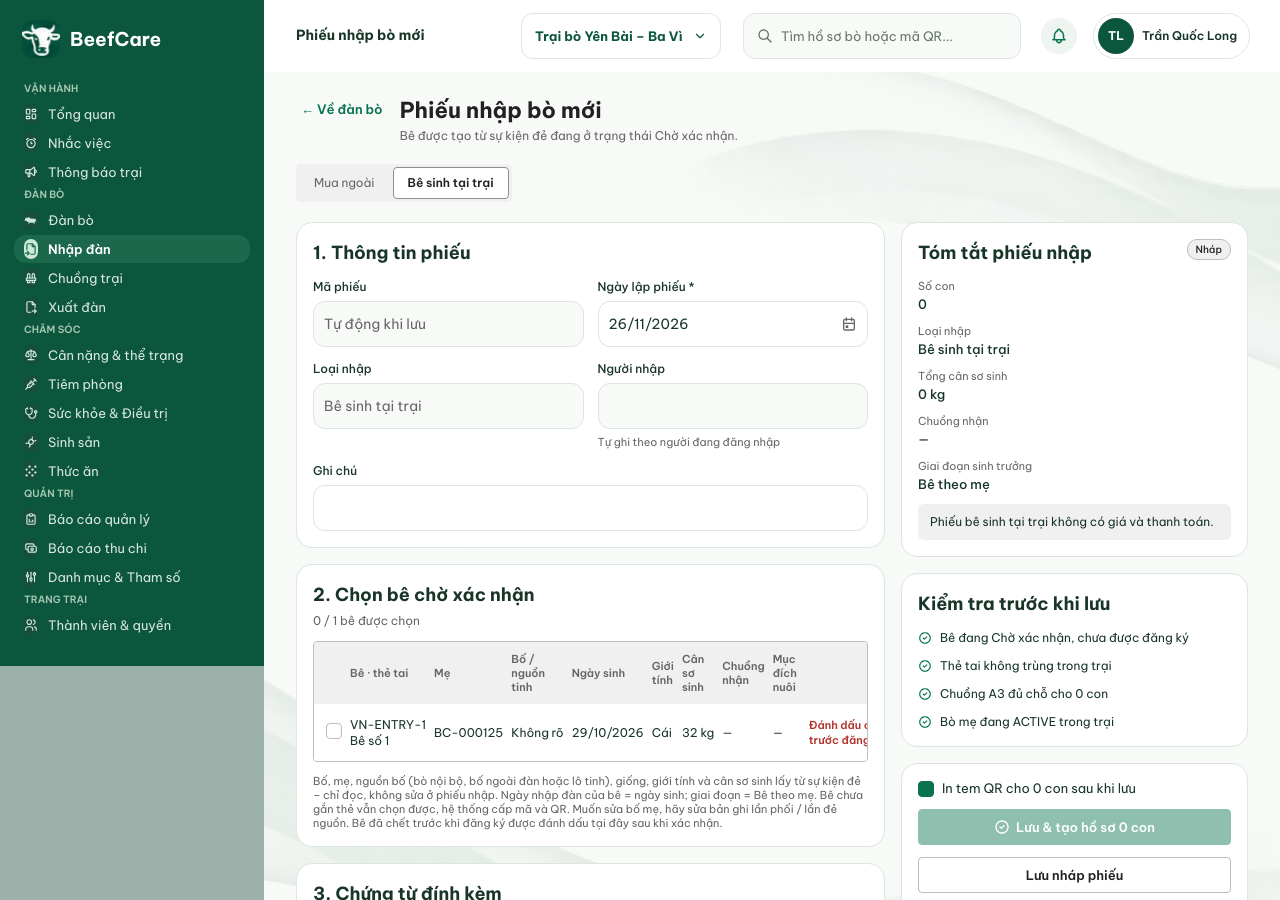
Test: farm-born entry draft in backend mode › confirms a pending calf death through the backend command without creating a voucher
Expected: the field showing "Bê sinh tại trại" is shown, [313,383,584,429]
Click the button "Đánh dấu chết trước đăng ký".
click(865, 733)  # box [805,714,925,751]
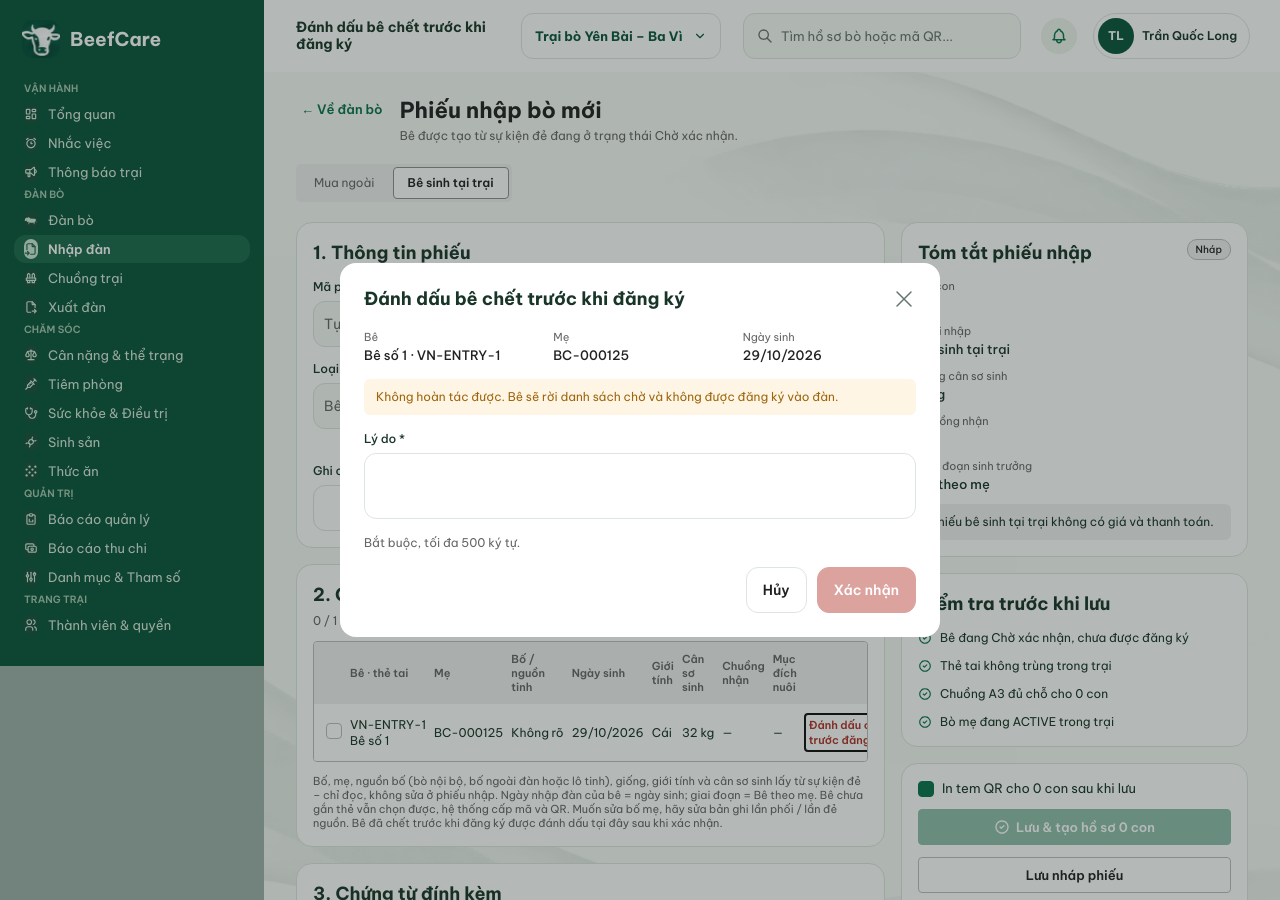
Result: the button "Xác nhận" is disabled at [817,567,916,613]
Click the button "Hủy".
click(776, 590)  # box [746,567,807,613]
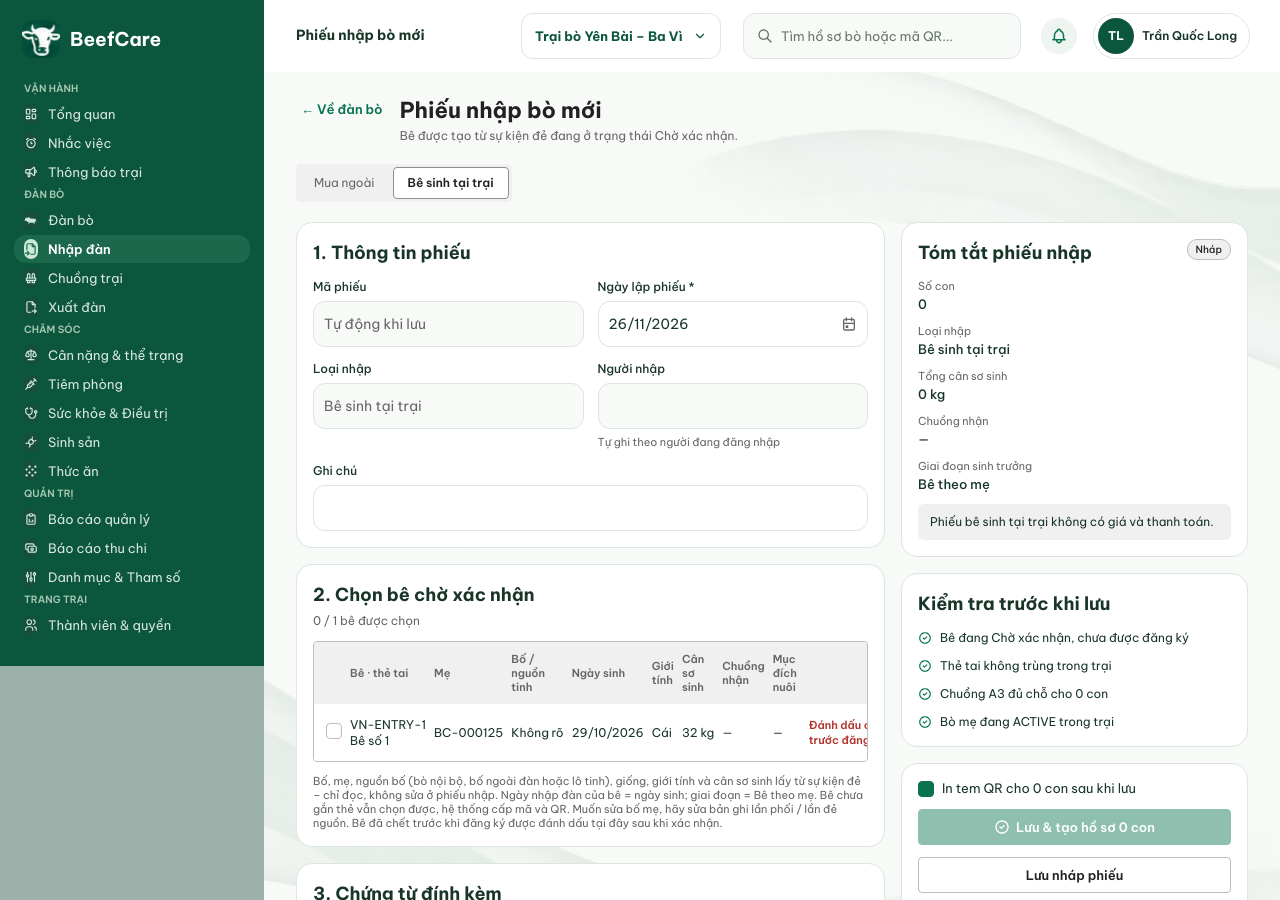
Expected: the checkbox named "Chọn VN-ENTRY-1" is shown, [326,722,342,739]
Click the button "Đánh dấu chết trước đăng ký".
click(865, 733)  # box [805,714,925,751]
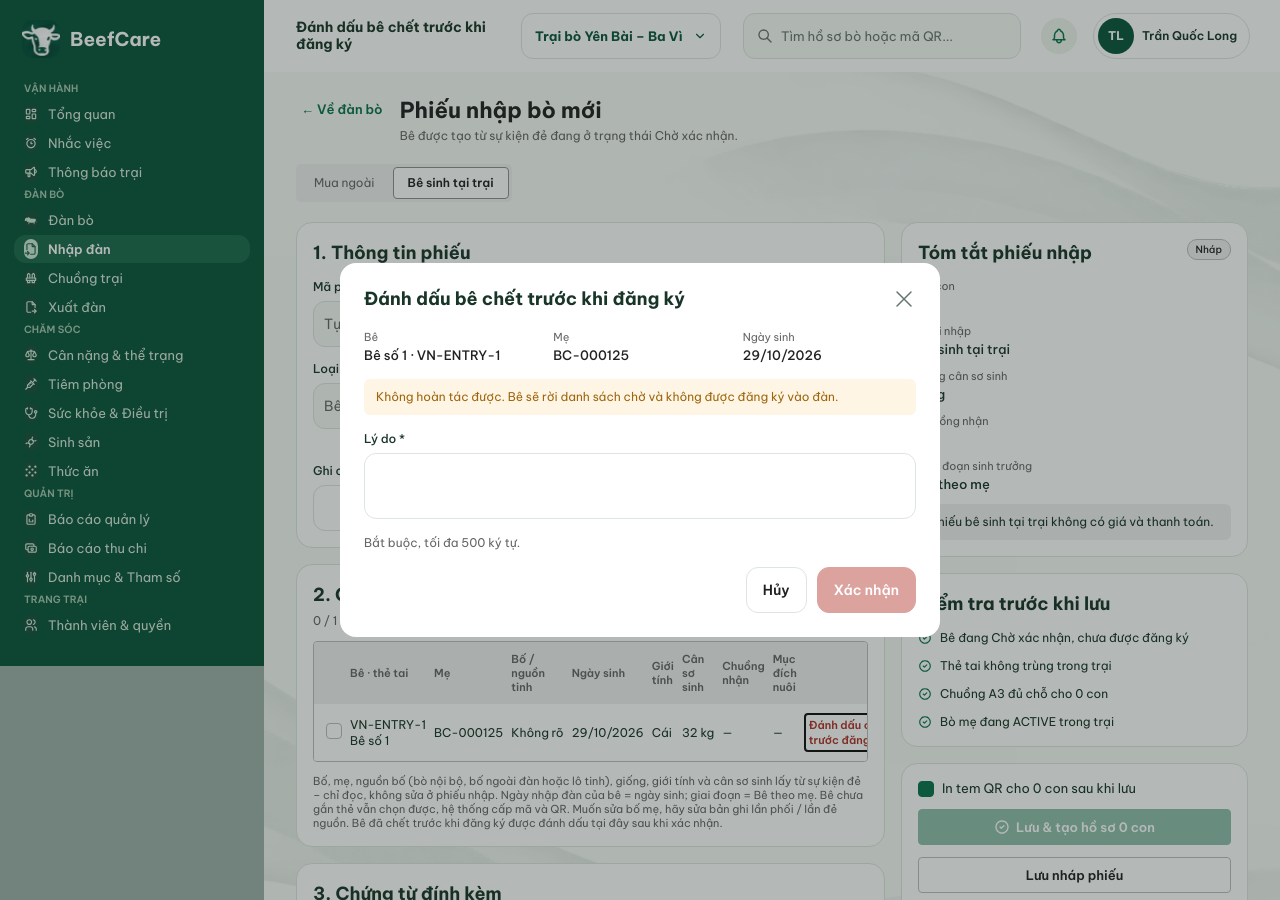
Type "Bê chết sau khi sinh" into the text box labelled "Lý do".
click(640, 486); type("Bê chết sau khi sinh")  # box [364,453,916,519]
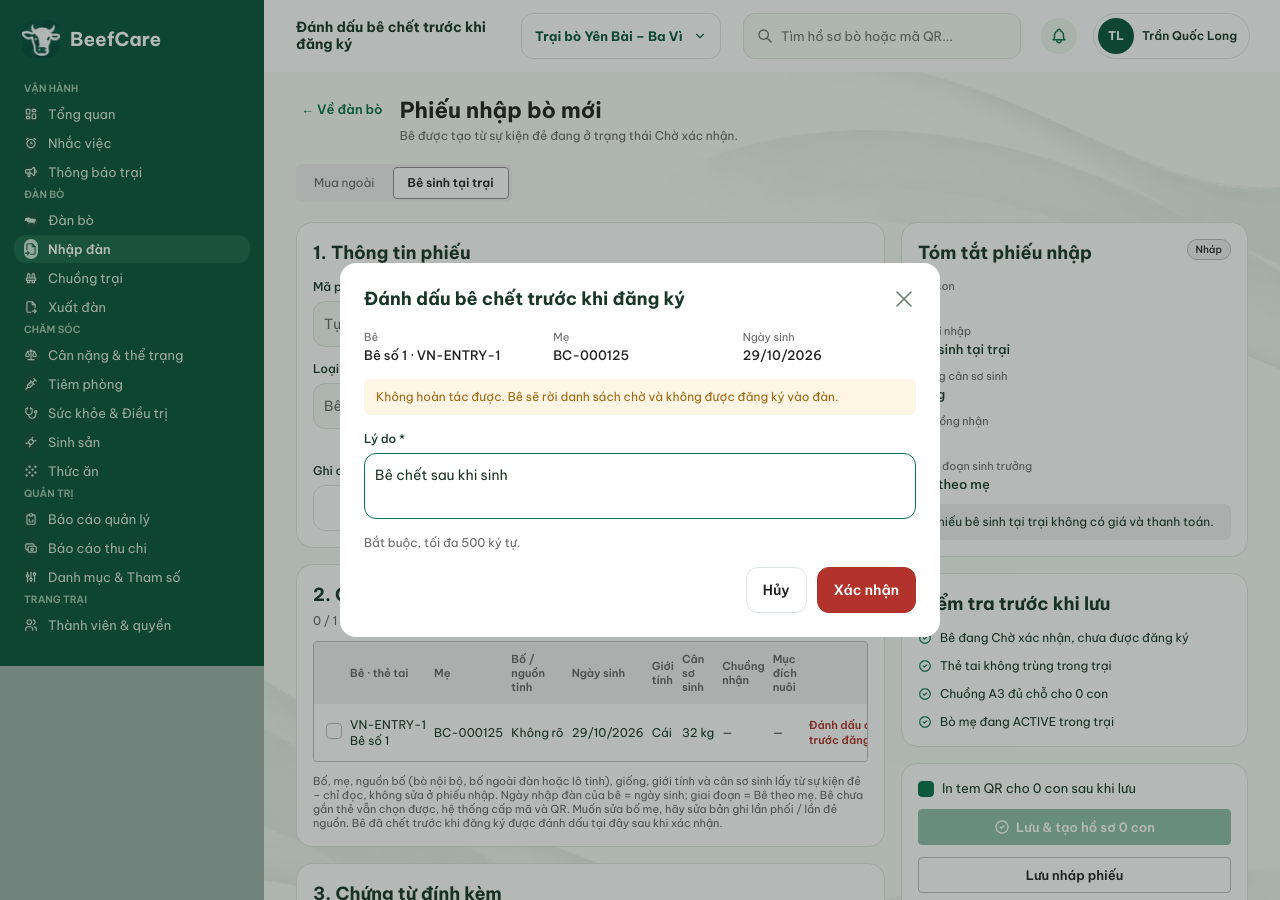
Click the button "Xác nhận".
click(866, 590)  # box [817,567,916,613]
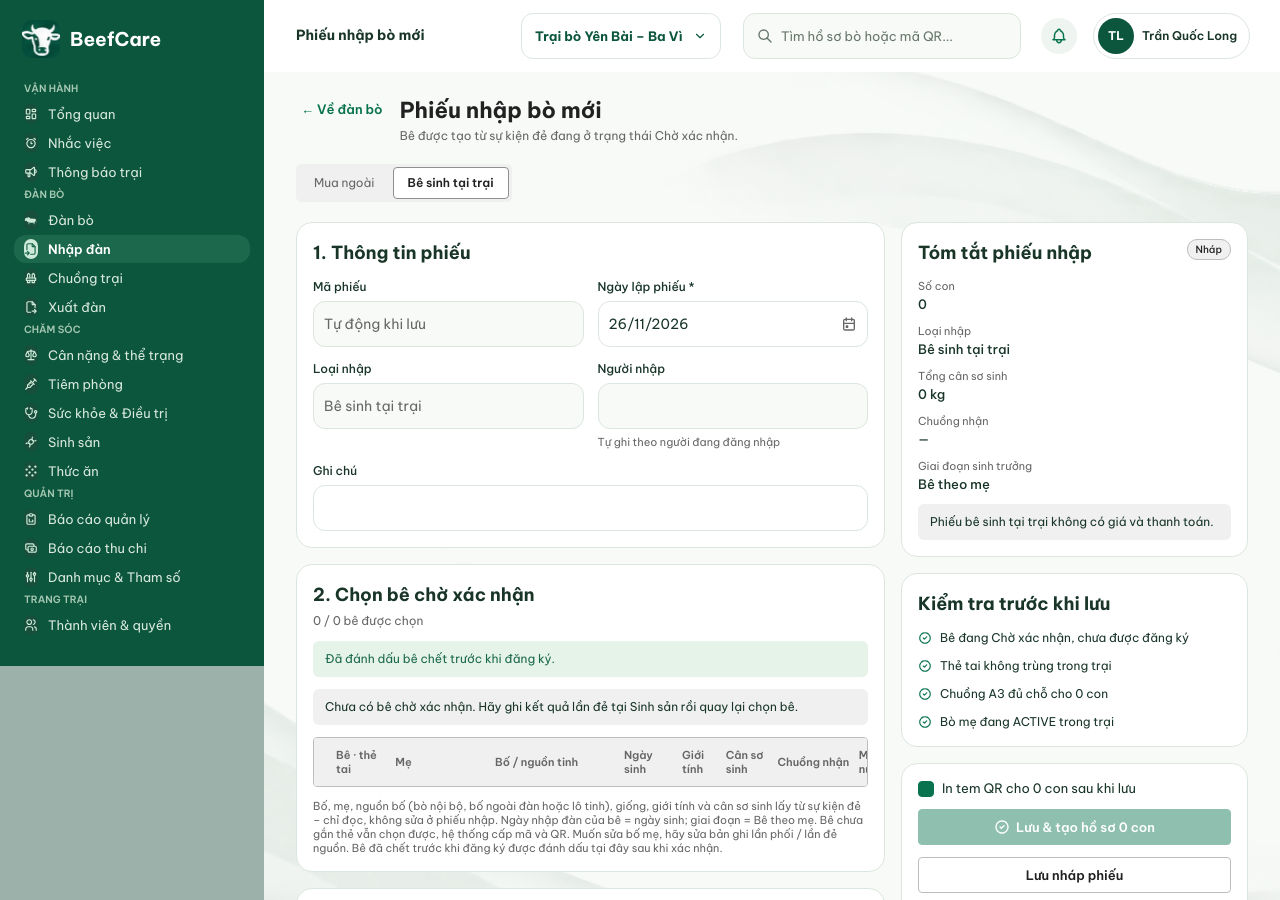
Result: the text "VN-ENTRY-1" is gone
Result: the text "Đã đánh dấu bê chết trước khi đăng ký." is shown at [313,641,868,677]
